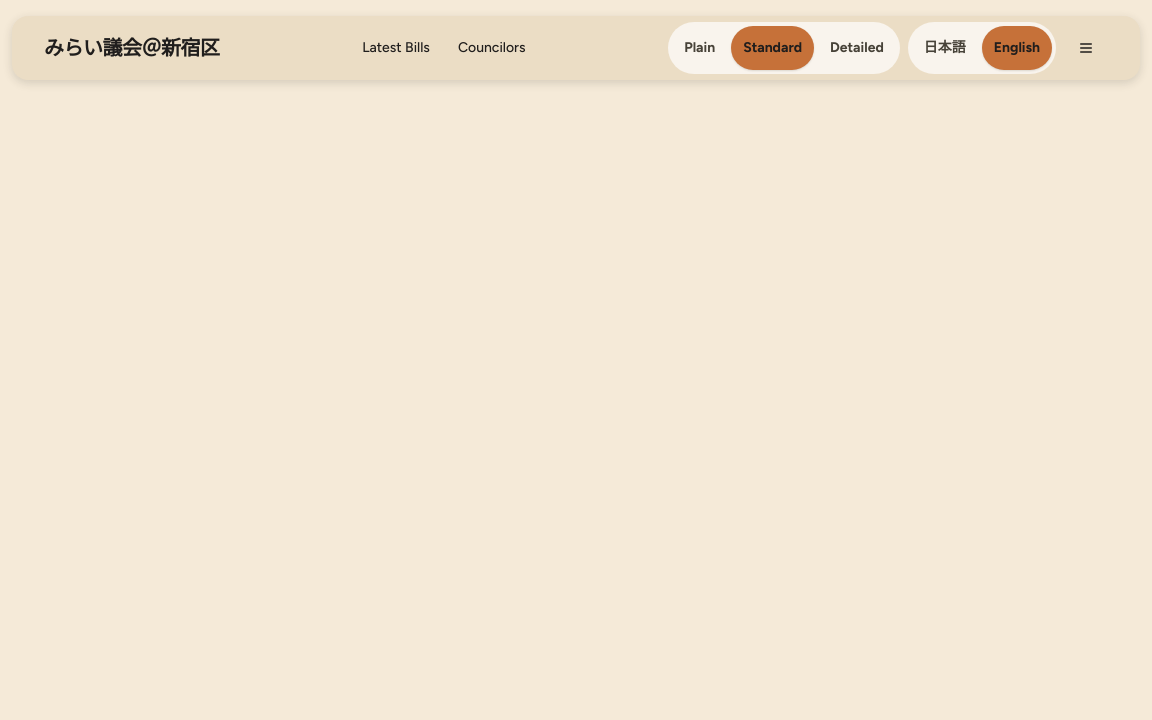
Test: HeaderClient › 英語表示（P8-12） › ナビ・難易度・ホーム導線・メニューを英語で出し、サイト名は日本語のまま
Expected: the link "Councilors" is shown, x1=458 y1=39 x2=526 y2=56
Expected: the button "Plain" is shown, x1=672 y1=26 x2=727 y2=70
Click the button named "Open menu".
click(1086, 48)  # box x1=1064 y1=26 x2=1108 y2=70
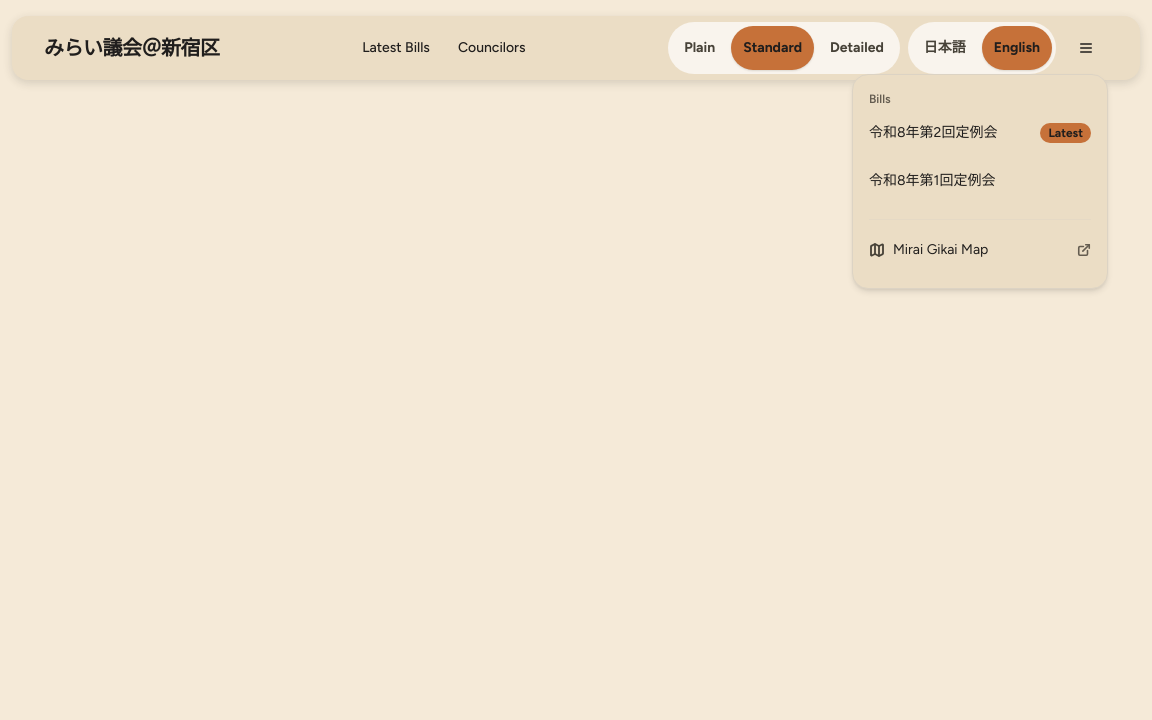
Now the link "令和8年第1回定例会" is shown, box x1=869 y1=172 x2=995 y2=189
